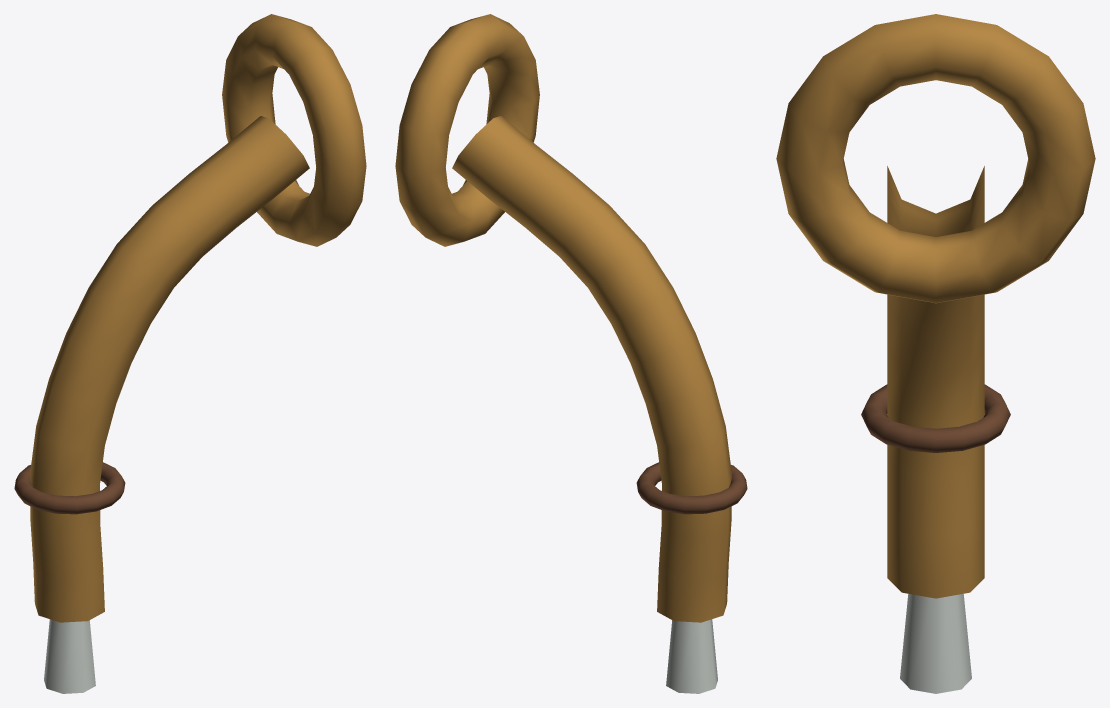
File: horn.glb
3 renders of one model, left to right at view 1: azimuth 30°, elevation 25°; view 2: azimuth 150°, elevation 25°; view 3: azimuth 270°, elevation 25°, orthographic. The views are drawn at different scales.
Parts seen in each view (by area): view 1: horn-body, horn-bell, horn-mouthpiece, horn-grip-band; view 2: horn-body, horn-bell, horn-mouthpiece, horn-grip-band; view 3: horn-bell, horn-body, horn-mouthpiece, horn-grip-band.
Part boxes in pixels (left/top/right/bottom): horn-body: left=30, top=116, right=309, bottom=622; horn-bell: left=222, top=14, right=366, bottom=246; horn-mouthpiece: left=44, top=619, right=95, bottom=693; horn-grip-band: left=14, top=462, right=125, bottom=514; horn-body: left=452, top=116, right=731, bottom=622; horn-bell: left=395, top=14, right=539, bottom=246; horn-mouthpiece: left=666, top=619, right=717, bottom=693; horn-grip-band: left=636, top=462, right=747, bottom=514; horn-bell: left=776, top=14, right=1095, bottom=303; horn-body: left=887, top=166, right=984, bottom=598; horn-mouthpiece: left=900, top=594, right=971, bottom=693; horn-grip-band: left=861, top=384, right=1010, bottom=452.
Bounding box in the file's own units: 0.3284 × 0.645 × 0.23.
